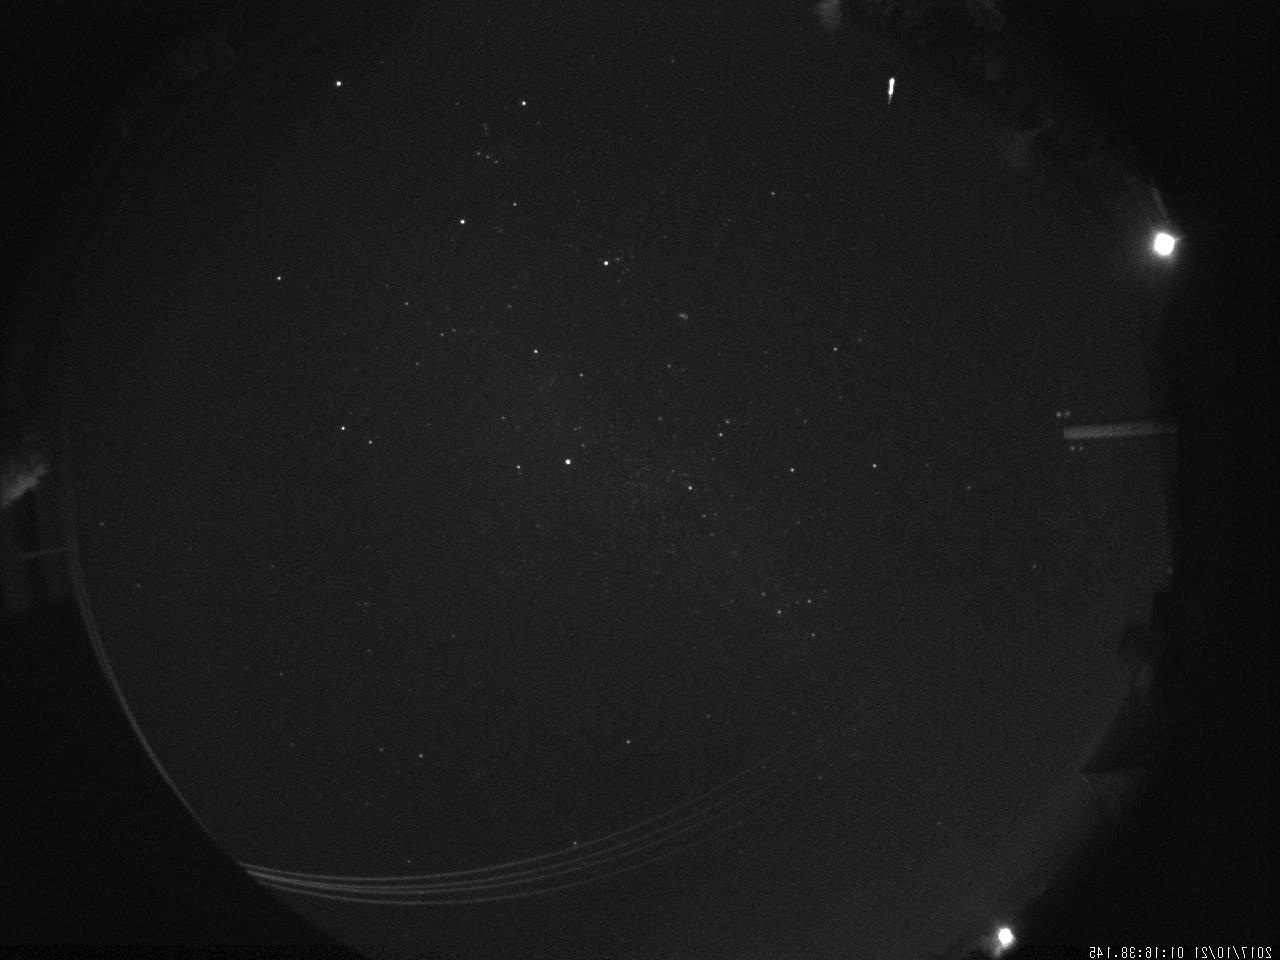meteor: (874, 66, 908, 117)
